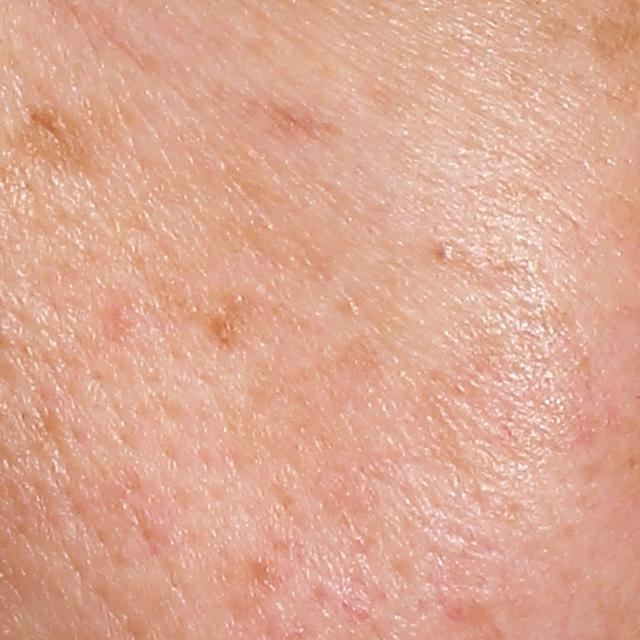melasma: (16, 101, 130, 180), (200, 306, 266, 354)
